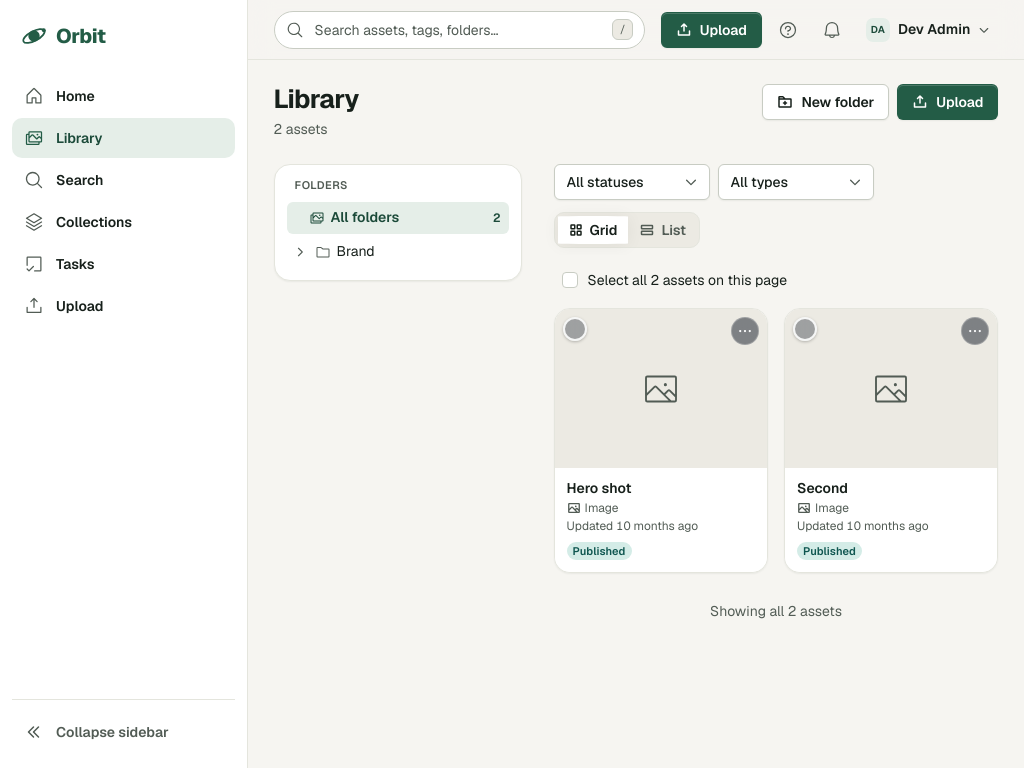
Test: LibraryPage › selects every asset with one control, which shows the mixed state while some are selected
Check: the text "Hero shot" is shown, box x1=567 y1=480 x2=631 y2=498
Click the checkbox named "Select Hero shot" at (575, 329), box x1=563 y1=317 x2=587 y2=341
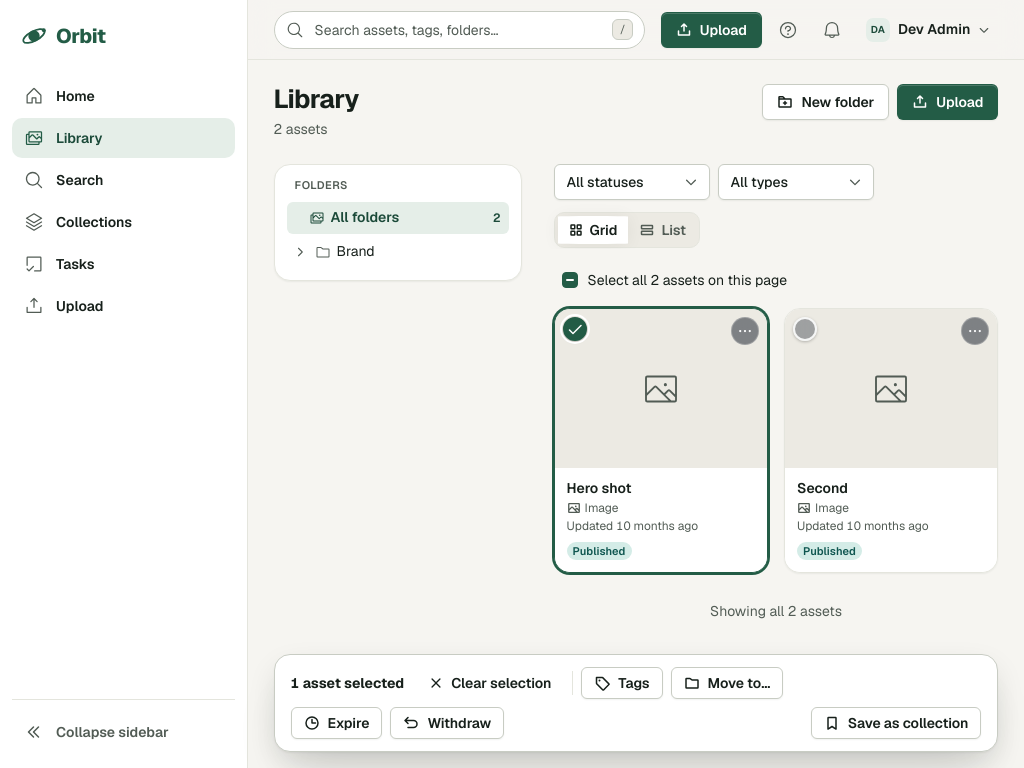
Click the checkbox labelled "Select all 2 assets on this page" at (570, 280), box x1=562 y1=272 x2=578 y2=288
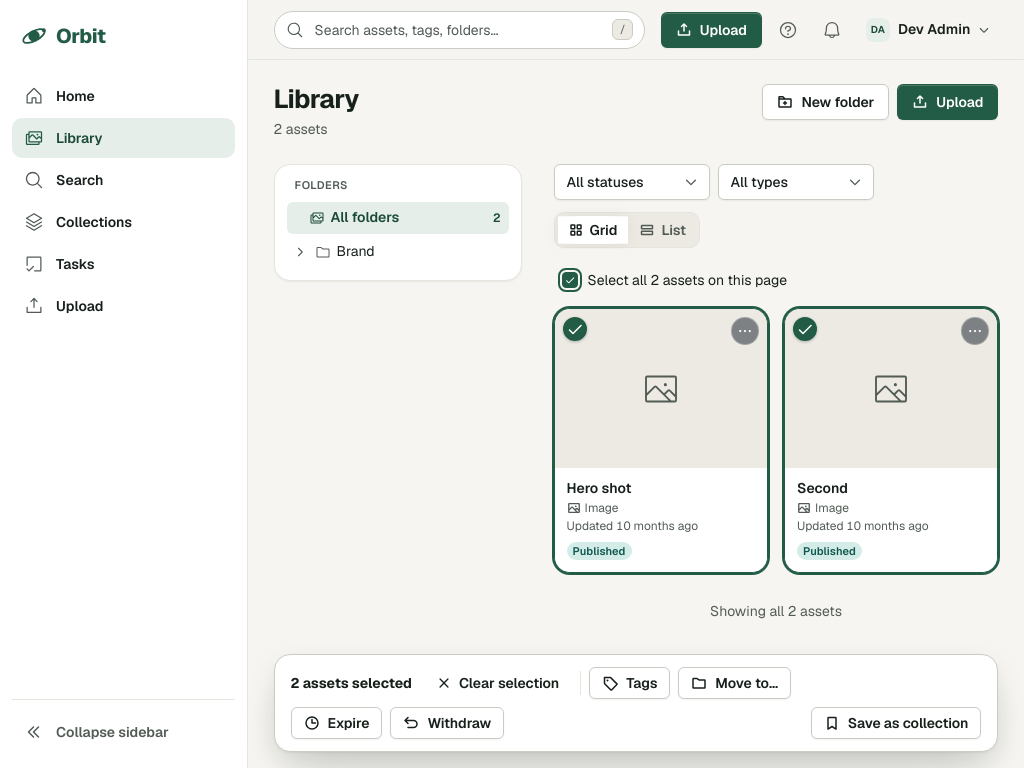
Check: the checkbox labelled "Select all 2 assets on this page" is checked, box x1=562 y1=272 x2=578 y2=288
Check: the element "2 assets selected" is shown, box x1=274 y1=654 x2=998 y2=752
